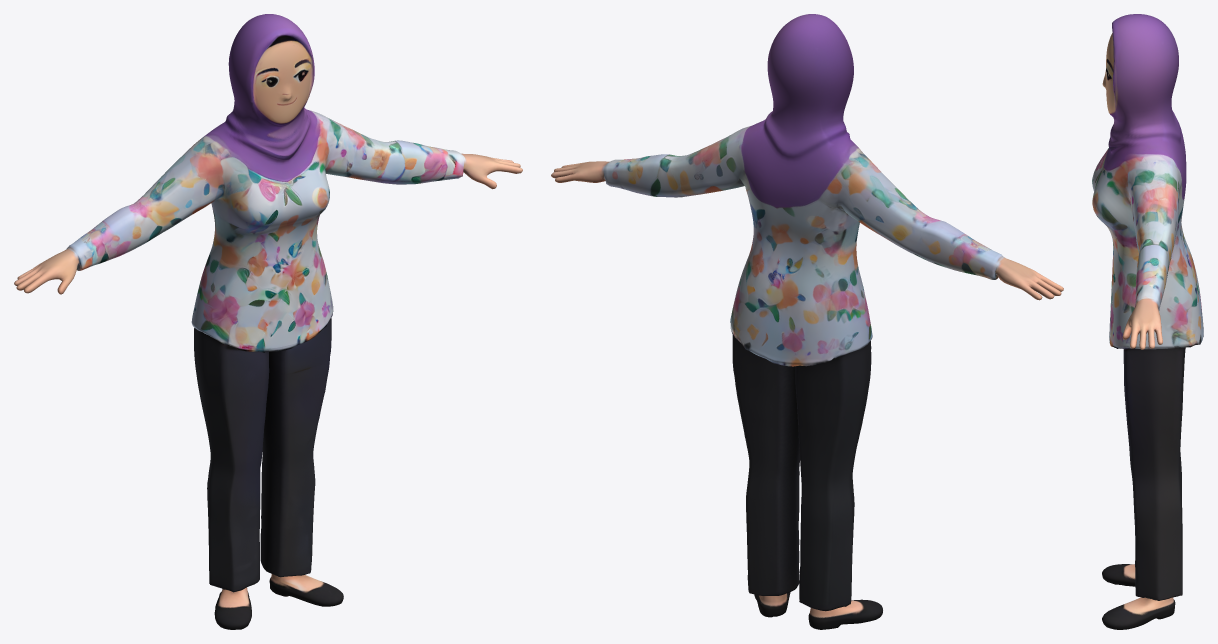
Rendered from npc_ibu.glb.
The picture shows the model from 3 angles, left to right: view 1: azimuth 30°, elevation 25°; view 2: azimuth 150°, elevation 25°; view 3: azimuth 270°, elevation 25°; orthographic projection.
Visible parts, largest first — view 1: model; view 2: model; view 3: model.
Part boxes in pixels (bbox=[...]): model: bbox=[14, 14, 522, 629]; model: bbox=[551, 14, 1063, 629]; model: bbox=[1092, 14, 1203, 629].
Bounding box in the file's own units: 1.65 × 1.84 × 0.3181.
Materials: 1 (1 with a texture image).
